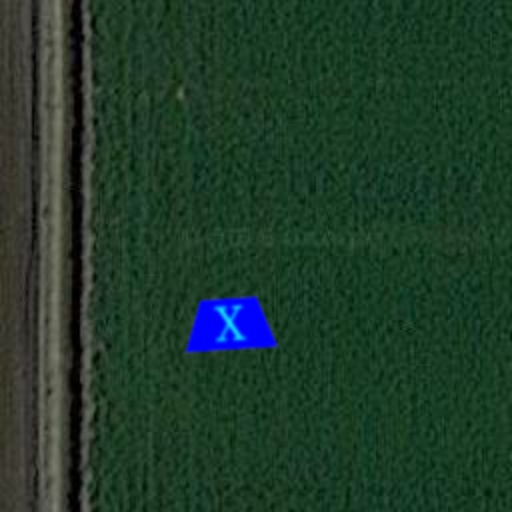trapezoid: (180, 274, 280, 374)
